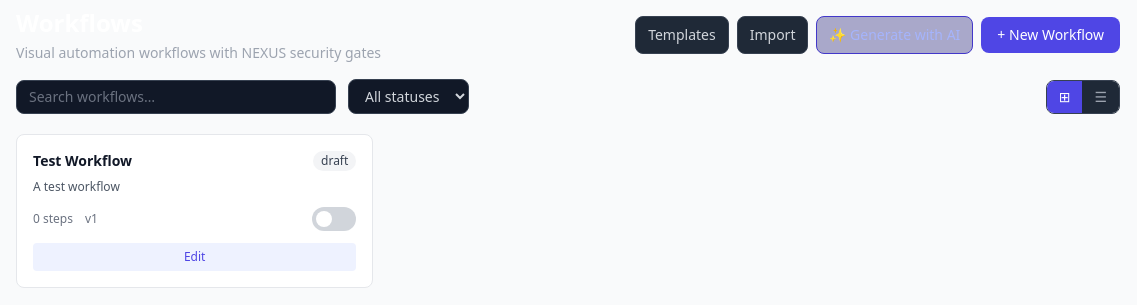
Test case: Workflow list page › WL3: View toggle between card and table
Check: the heading "Test Workflow" is shown, box [33,151,140,171]
# Table view button (the list icon)
Click the button "☰": {"x": 1101, "y": 96} [1082,80,1119,112]
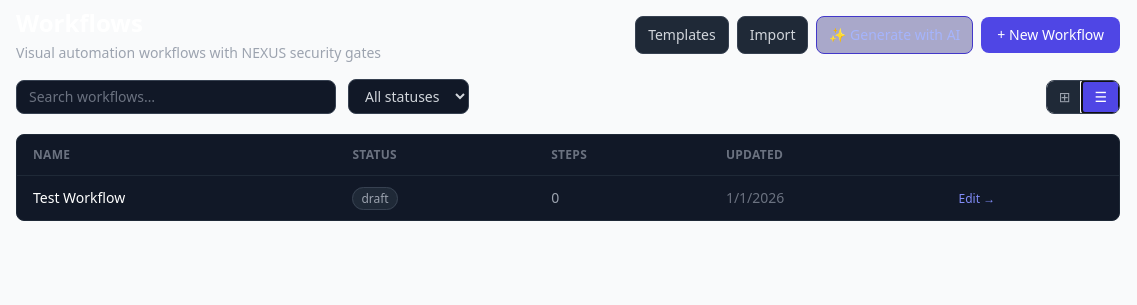
Check: the column heading "Steps" is shown, box [535,135,710,176]
Check: the column heading "Name" is shown, box [17,135,336,176]
Check: the column heading "Status" is shown, box [336,135,535,176]
